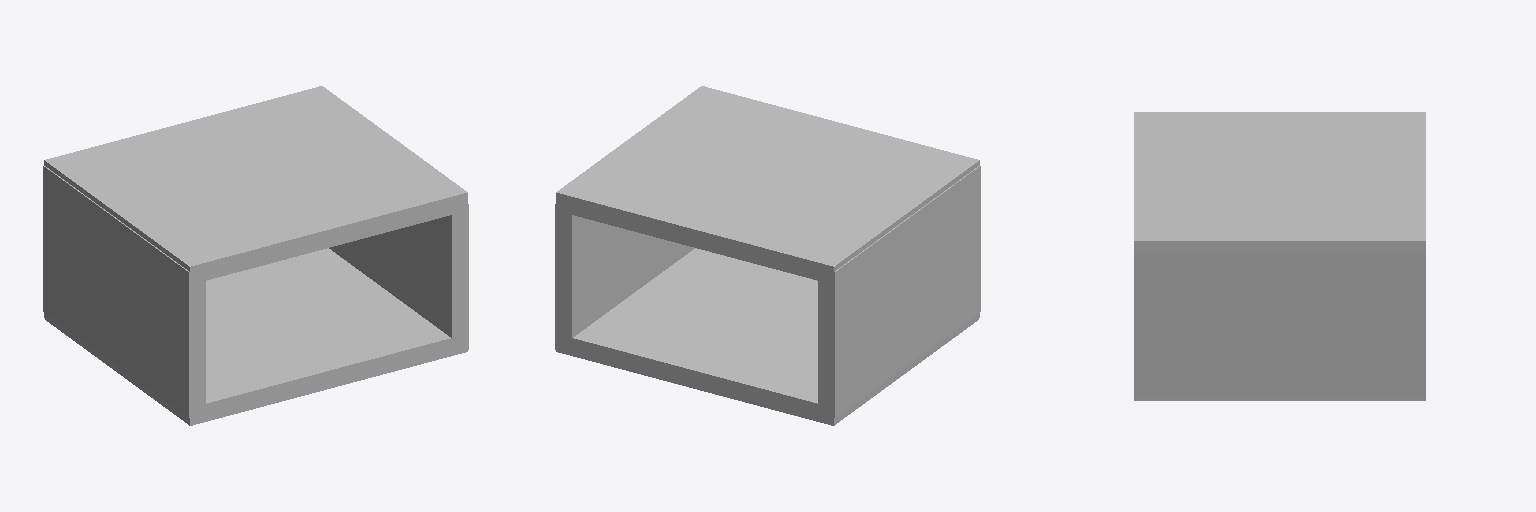
File: ShadowRoom.obj
The picture shows the model from 3 angles: view 1: azimuth 30°, elevation 25°; view 2: azimuth 150°, elevation 25°; view 3: azimuth 270°, elevation 25°; orthographic projection.
Visible parts, largest first — view 1: Cube.002, Cube.003, Cube, Cube.001; view 2: Cube.002, Cube.003, Cube, Cube.001; view 3: Cube.001, Cube.002, Cube.003.
Part boxes in pixels (x1,y1,x2,y2): Cube.002: (44, 86, 467, 284); Cube.003: (44, 248, 467, 425); Cube: (43, 166, 205, 417); Cube.001: (329, 204, 468, 353); Cube.002: (556, 86, 979, 284); Cube.003: (556, 248, 979, 425); Cube: (818, 166, 980, 417); Cube.001: (555, 204, 694, 353); Cube.001: (1134, 253, 1425, 398); Cube.002: (1134, 112, 1425, 252); Cube.003: (1134, 399, 1425, 400).
Bounding box in the file's own units: 46.75 × 26.47 × 42.17.